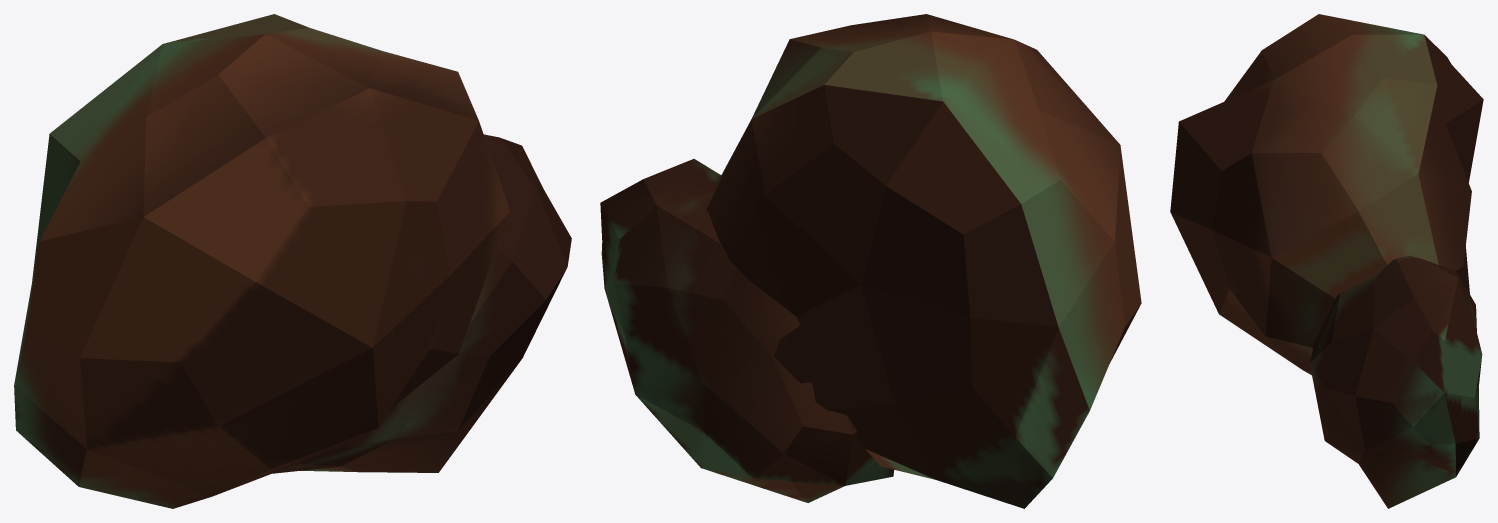
File: rock.glb
3 views of the same model, side by side, from view 1: azimuth 30°, elevation 25°; view 2: azimuth 150°, elevation 25°; view 3: azimuth 270°, elevation 25° (orthographic). The views are drawn at different scales.
Parts seen in each view (by area): view 1: rock; view 2: rock; view 3: rock.
Boxes of the visible parts, bbox=[...] form: rock: bbox=[14, 14, 571, 508]; rock: bbox=[600, 14, 1141, 508]; rock: bbox=[1170, 14, 1483, 508].
Size of the model in its own units: 1.76 by 1.52 by 1.09.
1 material, 1 textured.
